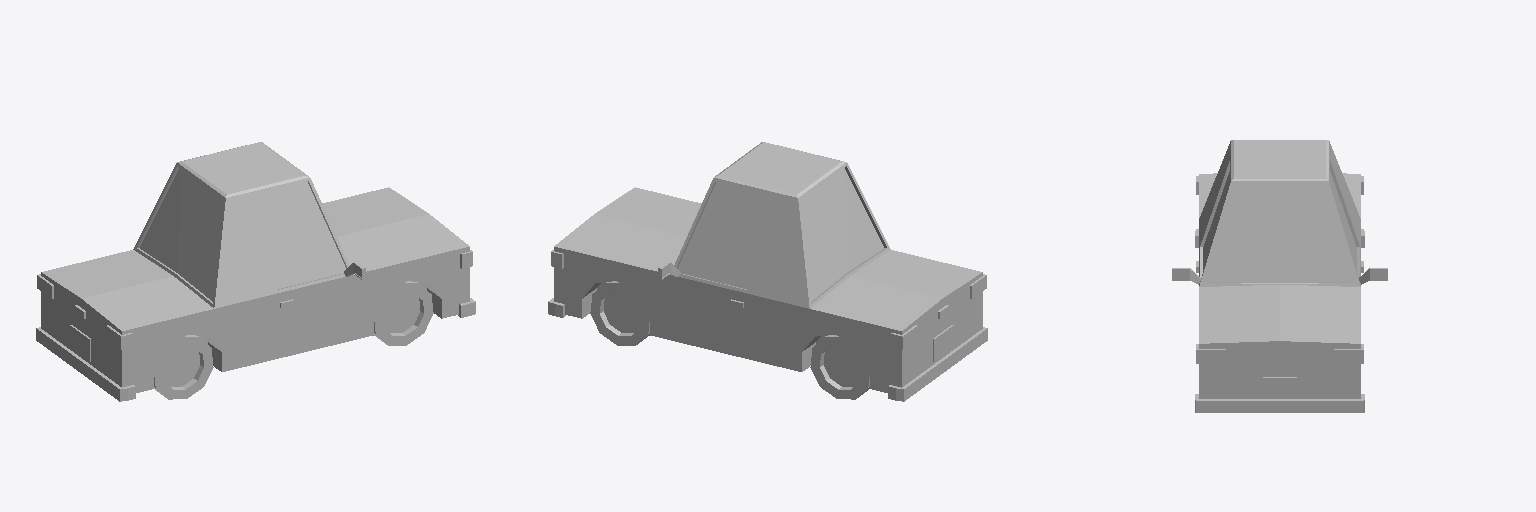
Rendered from car2.obj.
3 renders of one model, left to right at view 1: azimuth 30°, elevation 25°; view 2: azimuth 150°, elevation 25°; view 3: azimuth 270°, elevation 25°, orthographic.
Parts seen in each view (by area): view 1: Cube; view 2: Cube; view 3: Cube.
Boxes of the visible parts, x1=… form: Cube: x1=36, y1=142, x2=475, y2=401; Cube: x1=548, y1=142, x2=987, y2=401; Cube: x1=1172, y1=140, x2=1387, y2=412.
Bounding box in the file's own units: 6.09 × 2.97 × 3.2.